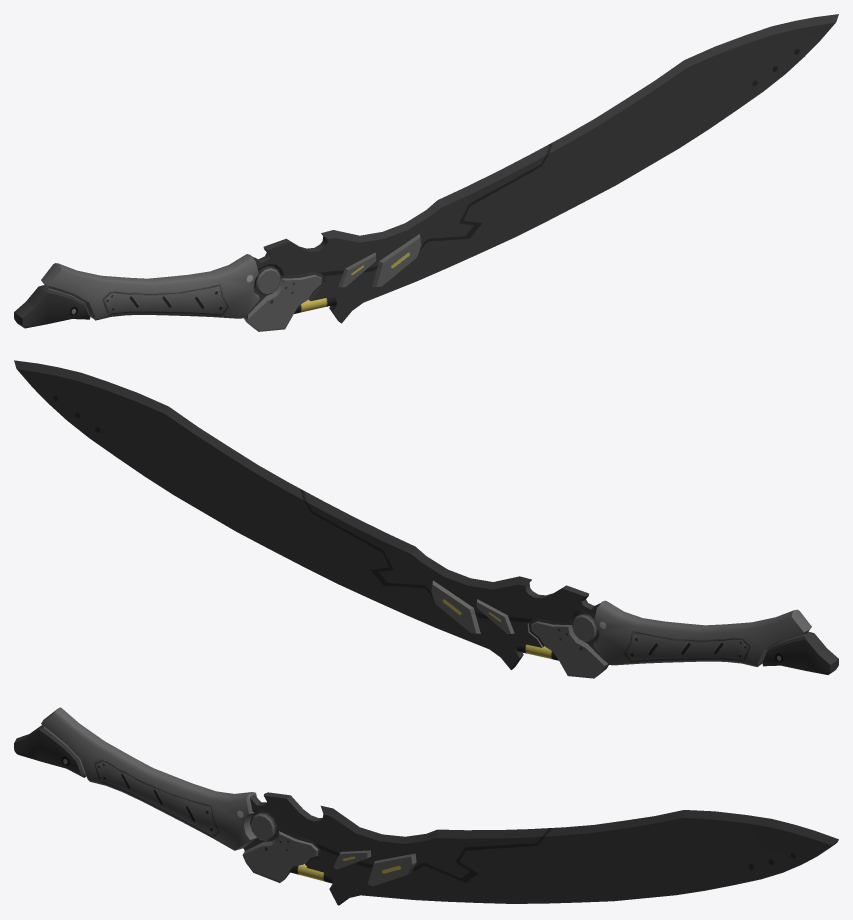
File: E2DaggerMd050011 #247519.fbx
3 views of the same model, one above another, from view 1: azimuth 30°, elevation 25°; view 2: azimuth 150°, elevation 25°; view 3: azimuth 330°, elevation 25° (orthographic).
Visible parts, largest first — view 1: E2DaggerMd0500111, E2DaggerMd0500112; view 2: E2DaggerMd0500111, E2DaggerMd0500112; view 3: E2DaggerMd0500111, E2DaggerMd0500112.
Part boxes in pixels (x1,y1,x2,y2): E2DaggerMd0500111: (14, 14, 838, 328); E2DaggerMd0500112: (41, 234, 421, 331); E2DaggerMd0500111: (14, 360, 838, 674); E2DaggerMd0500112: (431, 580, 811, 678); E2DaggerMd0500111: (14, 725, 838, 905); E2DaggerMd0500112: (41, 707, 416, 886).
Size of the model in its own units: 0.6146 by 0.1366 by 0.0125.
2 materials, 2 textured.
